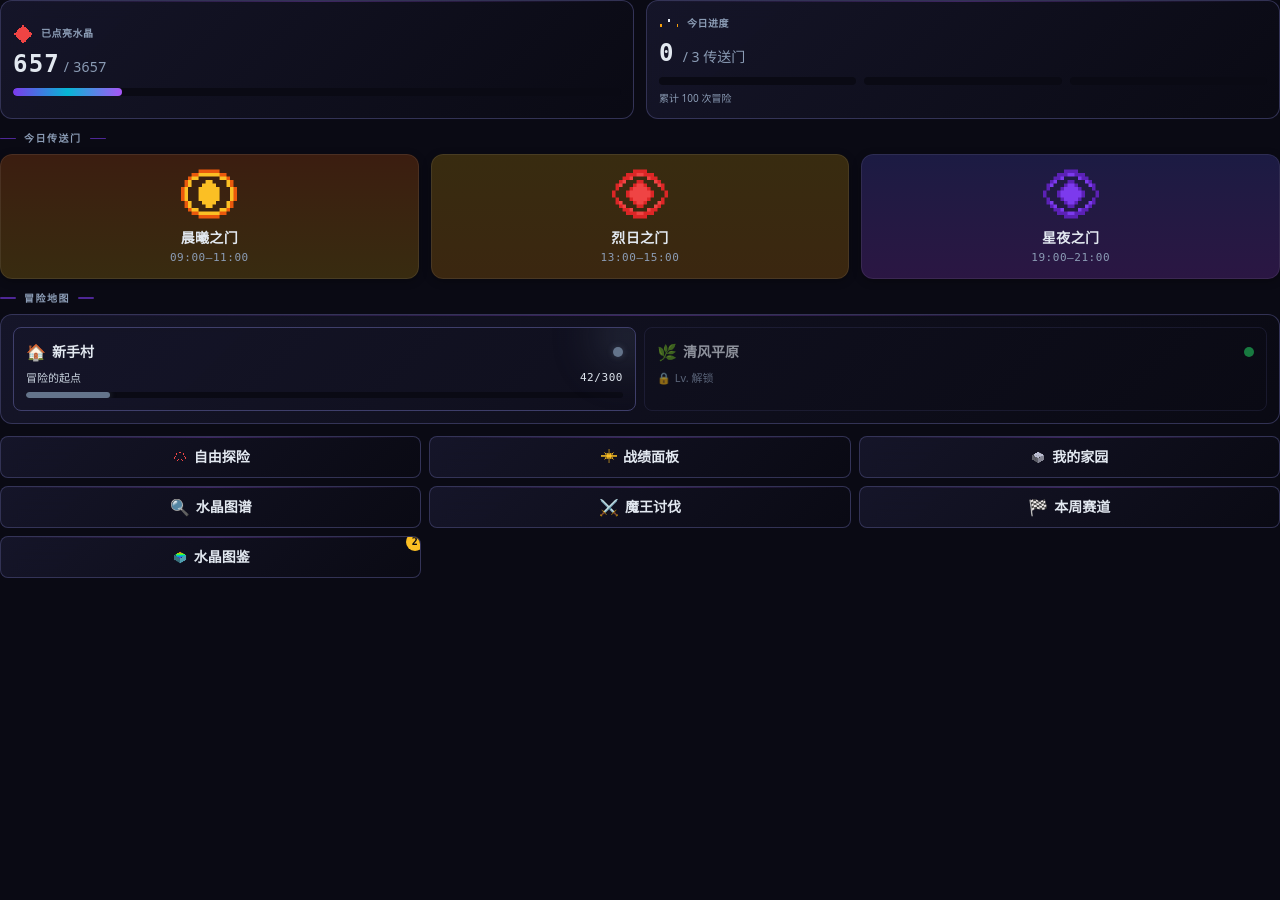
it: 冒险地图 › 关闭 TTS 时听写模式不可选，并说明原因
Click the button "自由探险" at (211, 457), box [0,436,421,478]
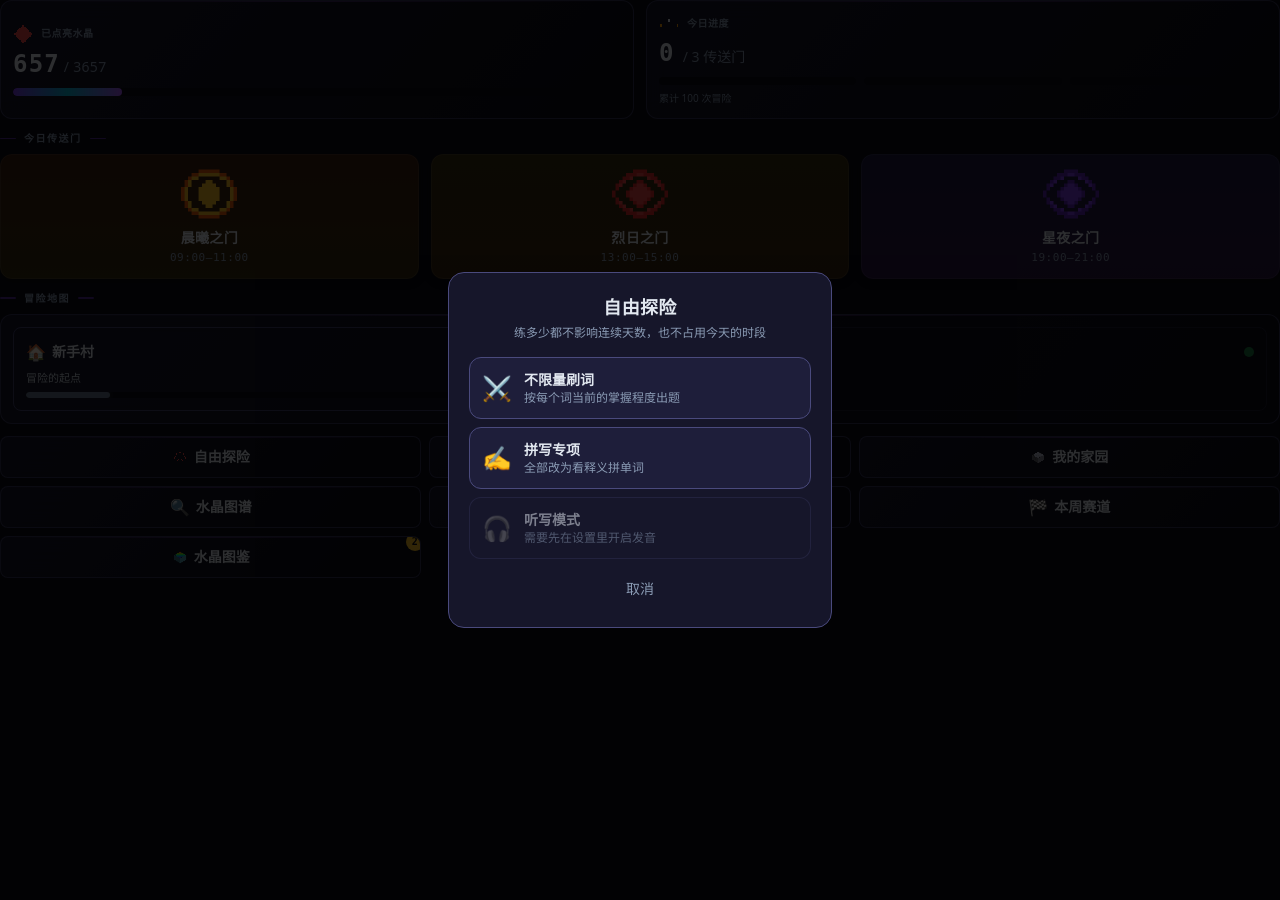
expect the button "🎧 听写模式 需要先在设置里开启发音" is disabled: met, box [469,497,811,559]
expect the text "需要先在设置里开启发音" is shown: met, box [524,529,656,546]
